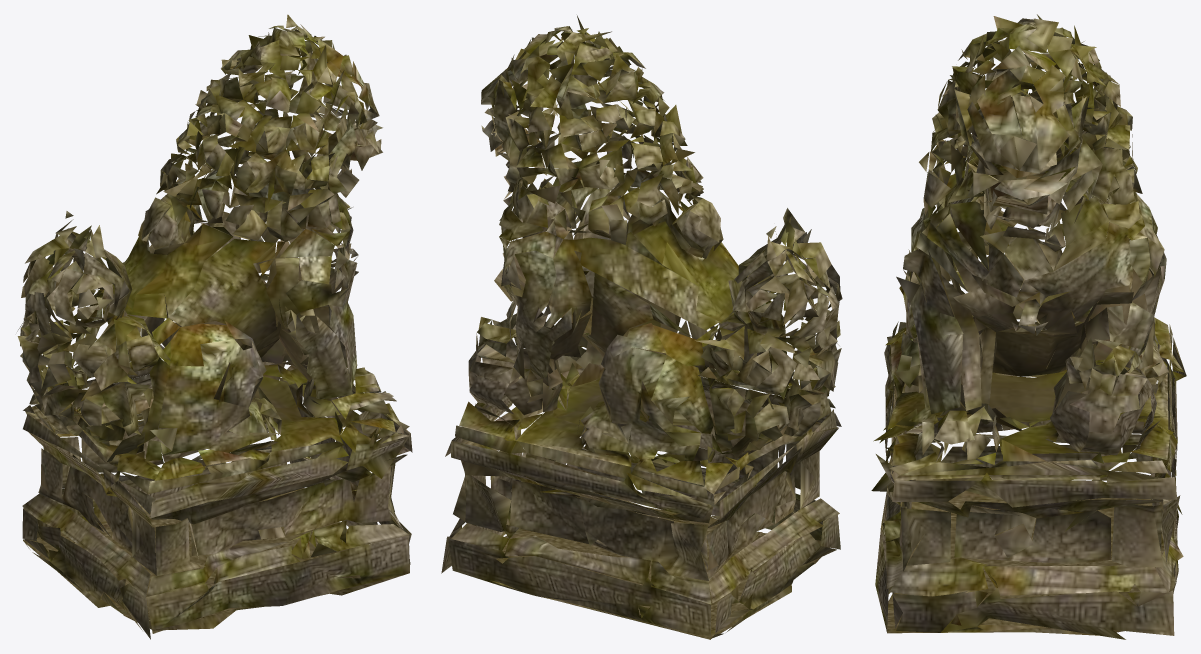
File: estatua_lod1.glb
The picture shows the model from 3 angles, left to right: view 1: azimuth 30°, elevation 25°; view 2: azimuth 150°, elevation 25°; view 3: azimuth 270°, elevation 25°; orthographic projection. The views are drawn at different scales.
Visible parts, largest first — view 1: estatua; view 2: estatua; view 3: estatua.
Part boxes in pixels (<box>): estatua: <box>17,14,412,639</box>; estatua: <box>441,15,842,639</box>; estatua: <box>871,14,1186,639</box>.
Bounding box in the file's own units: 1.6 × 2.25 × 1.08.
Materials: 1 (1 with a texture image).
